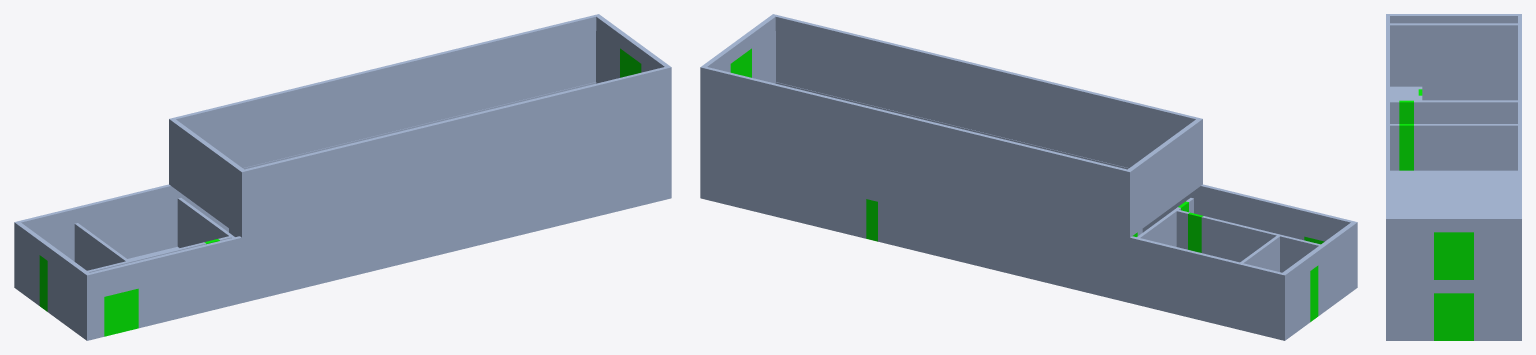
The model's file is Chlorination_Room_expansion.glb.
3 renders of one model, left to right at view 1: azimuth 30°, elevation 25°; view 2: azimuth 150°, elevation 25°; view 3: azimuth 270°, elevation 25°, orthographic. The views are drawn at different scales.
Visible parts, largest first — view 1: Floor1; view 2: Floor1; view 3: Floor1.
Part boxes in pixels (box(x1,y1,x2,y2)): Floor1: box(14, 14, 671, 340); Floor1: box(700, 14, 1357, 340); Floor1: box(1386, 14, 1521, 340).
Size of the model in its own units: 42.97 by 9.2 by 9.28.
